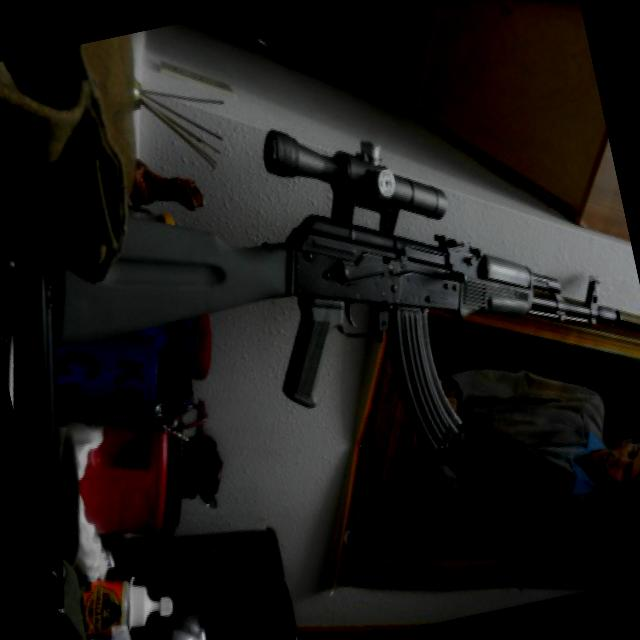long weapon: (14, 50, 639, 531)
